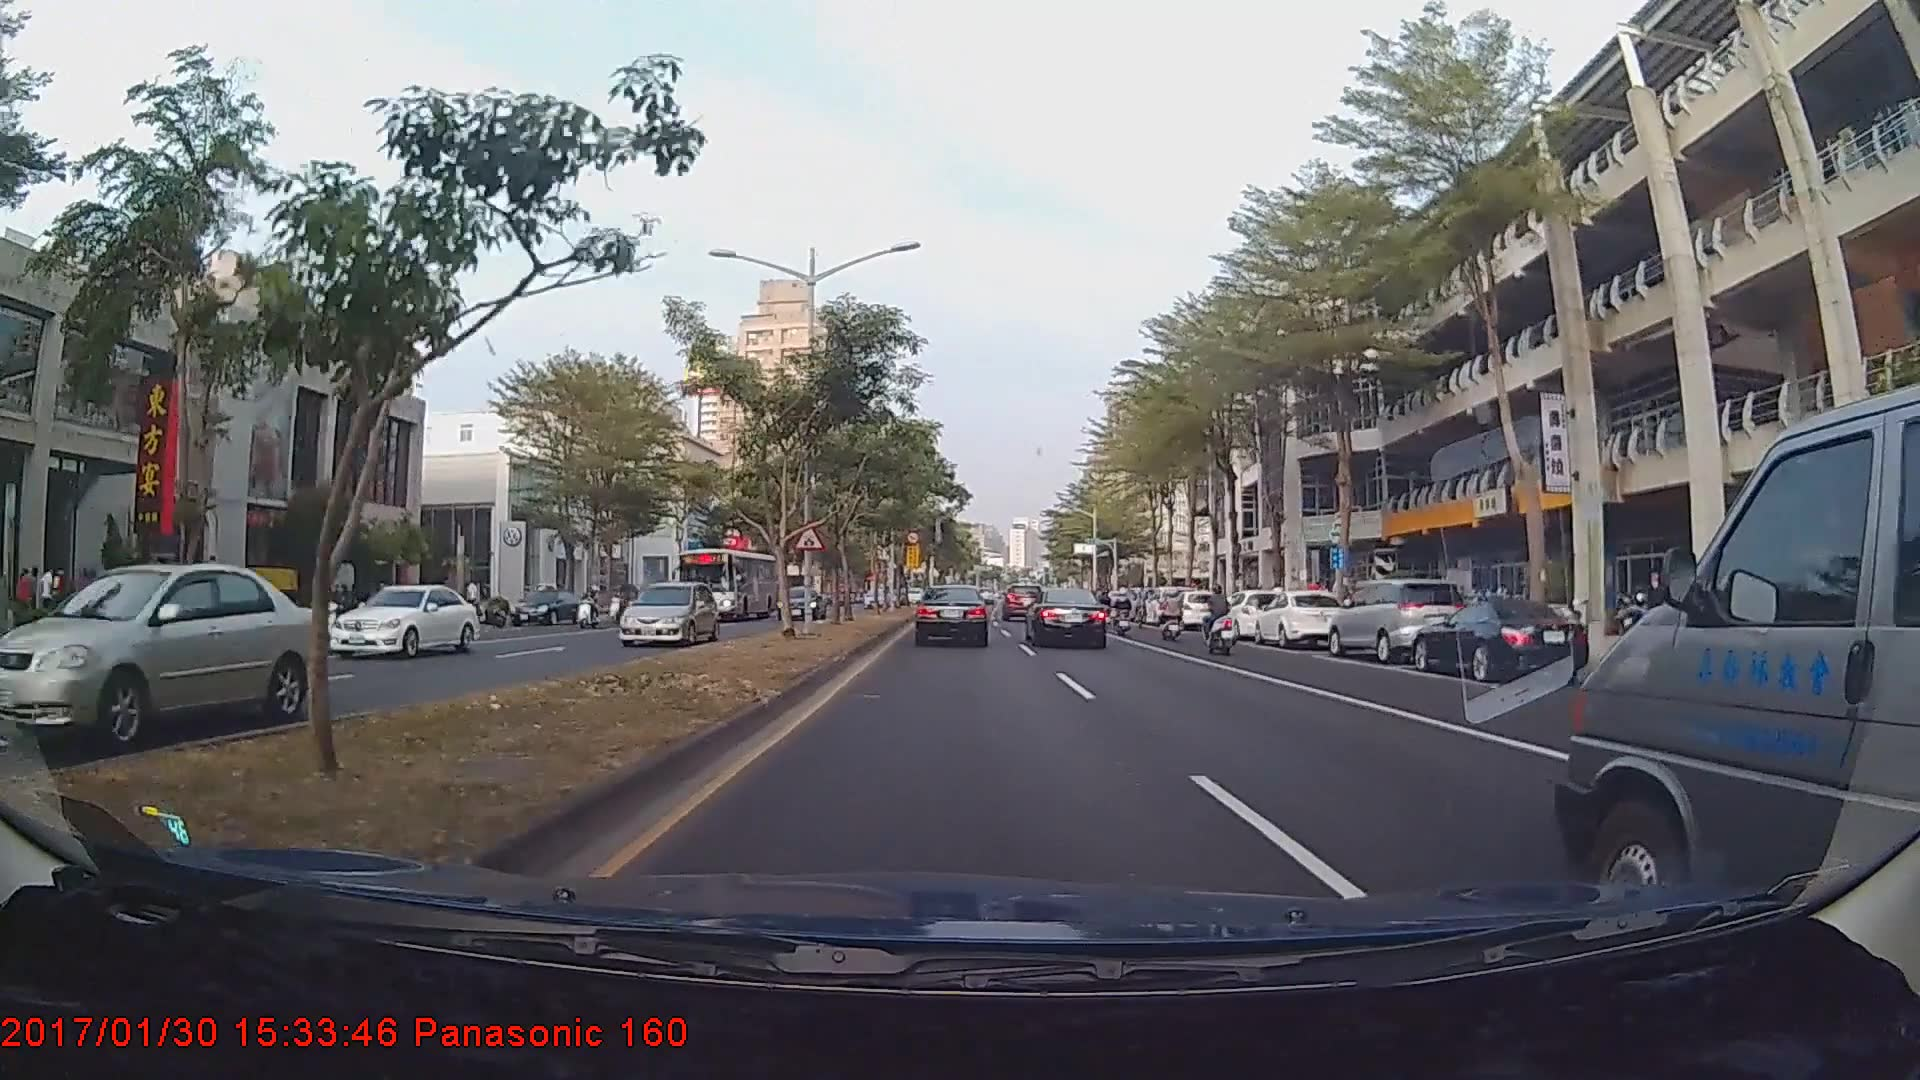rider: (1195, 582, 1246, 659), (1149, 590, 1199, 646), (575, 581, 606, 631), (1109, 586, 1135, 639)
vehicle: (1558, 413, 1910, 889), (1409, 598, 1592, 683), (1329, 571, 1475, 662), (328, 583, 479, 660), (679, 547, 778, 623), (616, 579, 718, 647), (1252, 587, 1350, 645), (1027, 586, 1108, 649), (915, 583, 990, 646), (1213, 587, 1289, 640), (1165, 588, 1221, 627), (774, 585, 821, 620), (1004, 578, 1046, 616)
